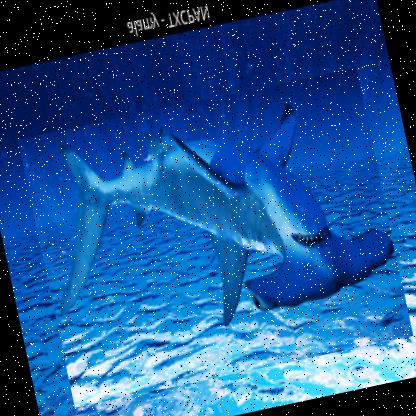hammerhead_Shark: (17, 66, 414, 407)
